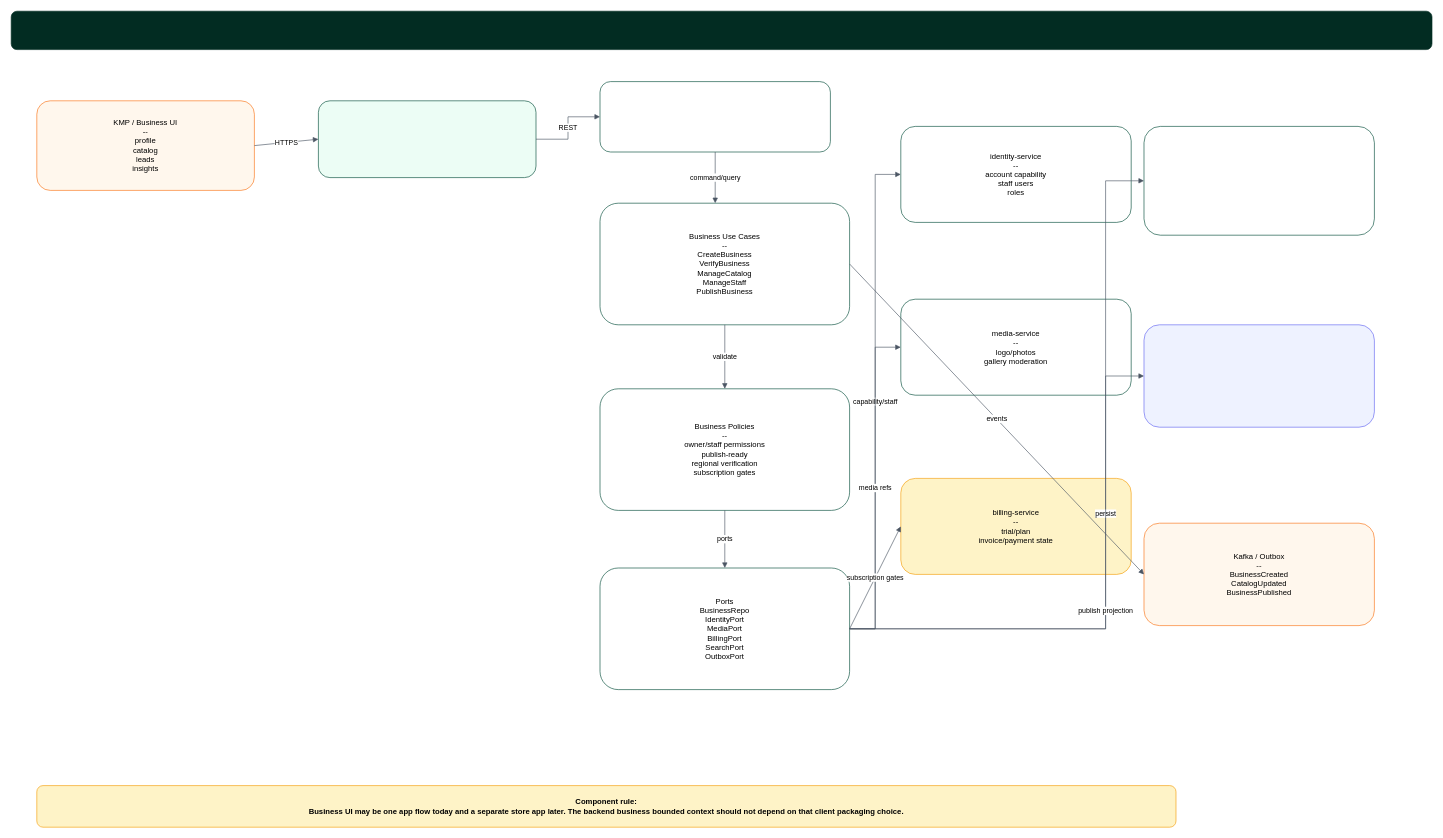
Some shapes in this 1443 by 838 pixel diagram are drawn without their labels. Each missing label, with the centre of its shape:
"API Gateway / BFF -- Business API facade" belongs at point (427, 139).
"BusinessController CatalogController StaffController" belongs at point (714, 116).
"PostgreSQL -- business branch catalog staff_role" belongs at point (1258, 180).
"search/trust -- public projection ranking signals" belongs at point (1258, 375).
"Viaverse Business Account / Merchant Ops — Component Diagram" belongs at point (721, 30).
